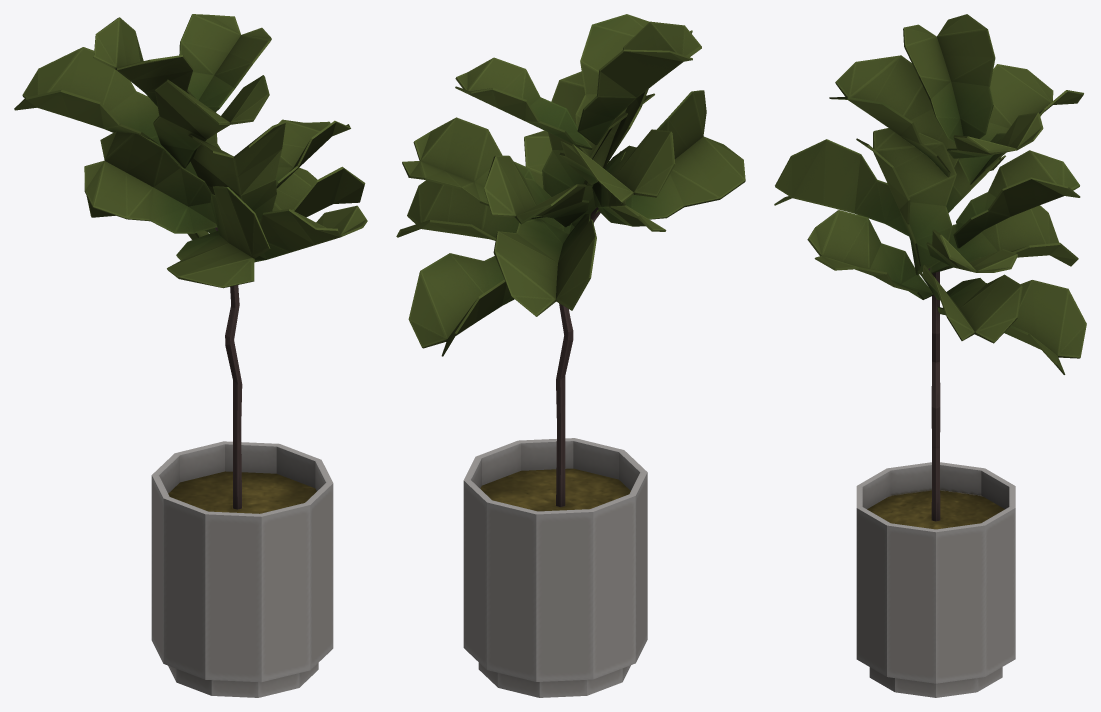
File: plantherb.glb
3 views of the same model, side by side, from view 1: azimuth 30°, elevation 25°; view 2: azimuth 150°, elevation 25°; view 3: azimuth 270°, elevation 25° (orthographic). The views are drawn at different scales.
Visible parts, largest first — view 1: node-0; view 2: node-0; view 3: node-0.
Boxes of the visible parts, <box> form: node-0: <box>14,14,367,697</box>; node-0: <box>396,14,745,697</box>; node-0: <box>774,14,1086,697</box>.
Size of the model in its own units: 4.3 by 8.95 by 4.25.
Materials: 1 (1 with a texture image).
